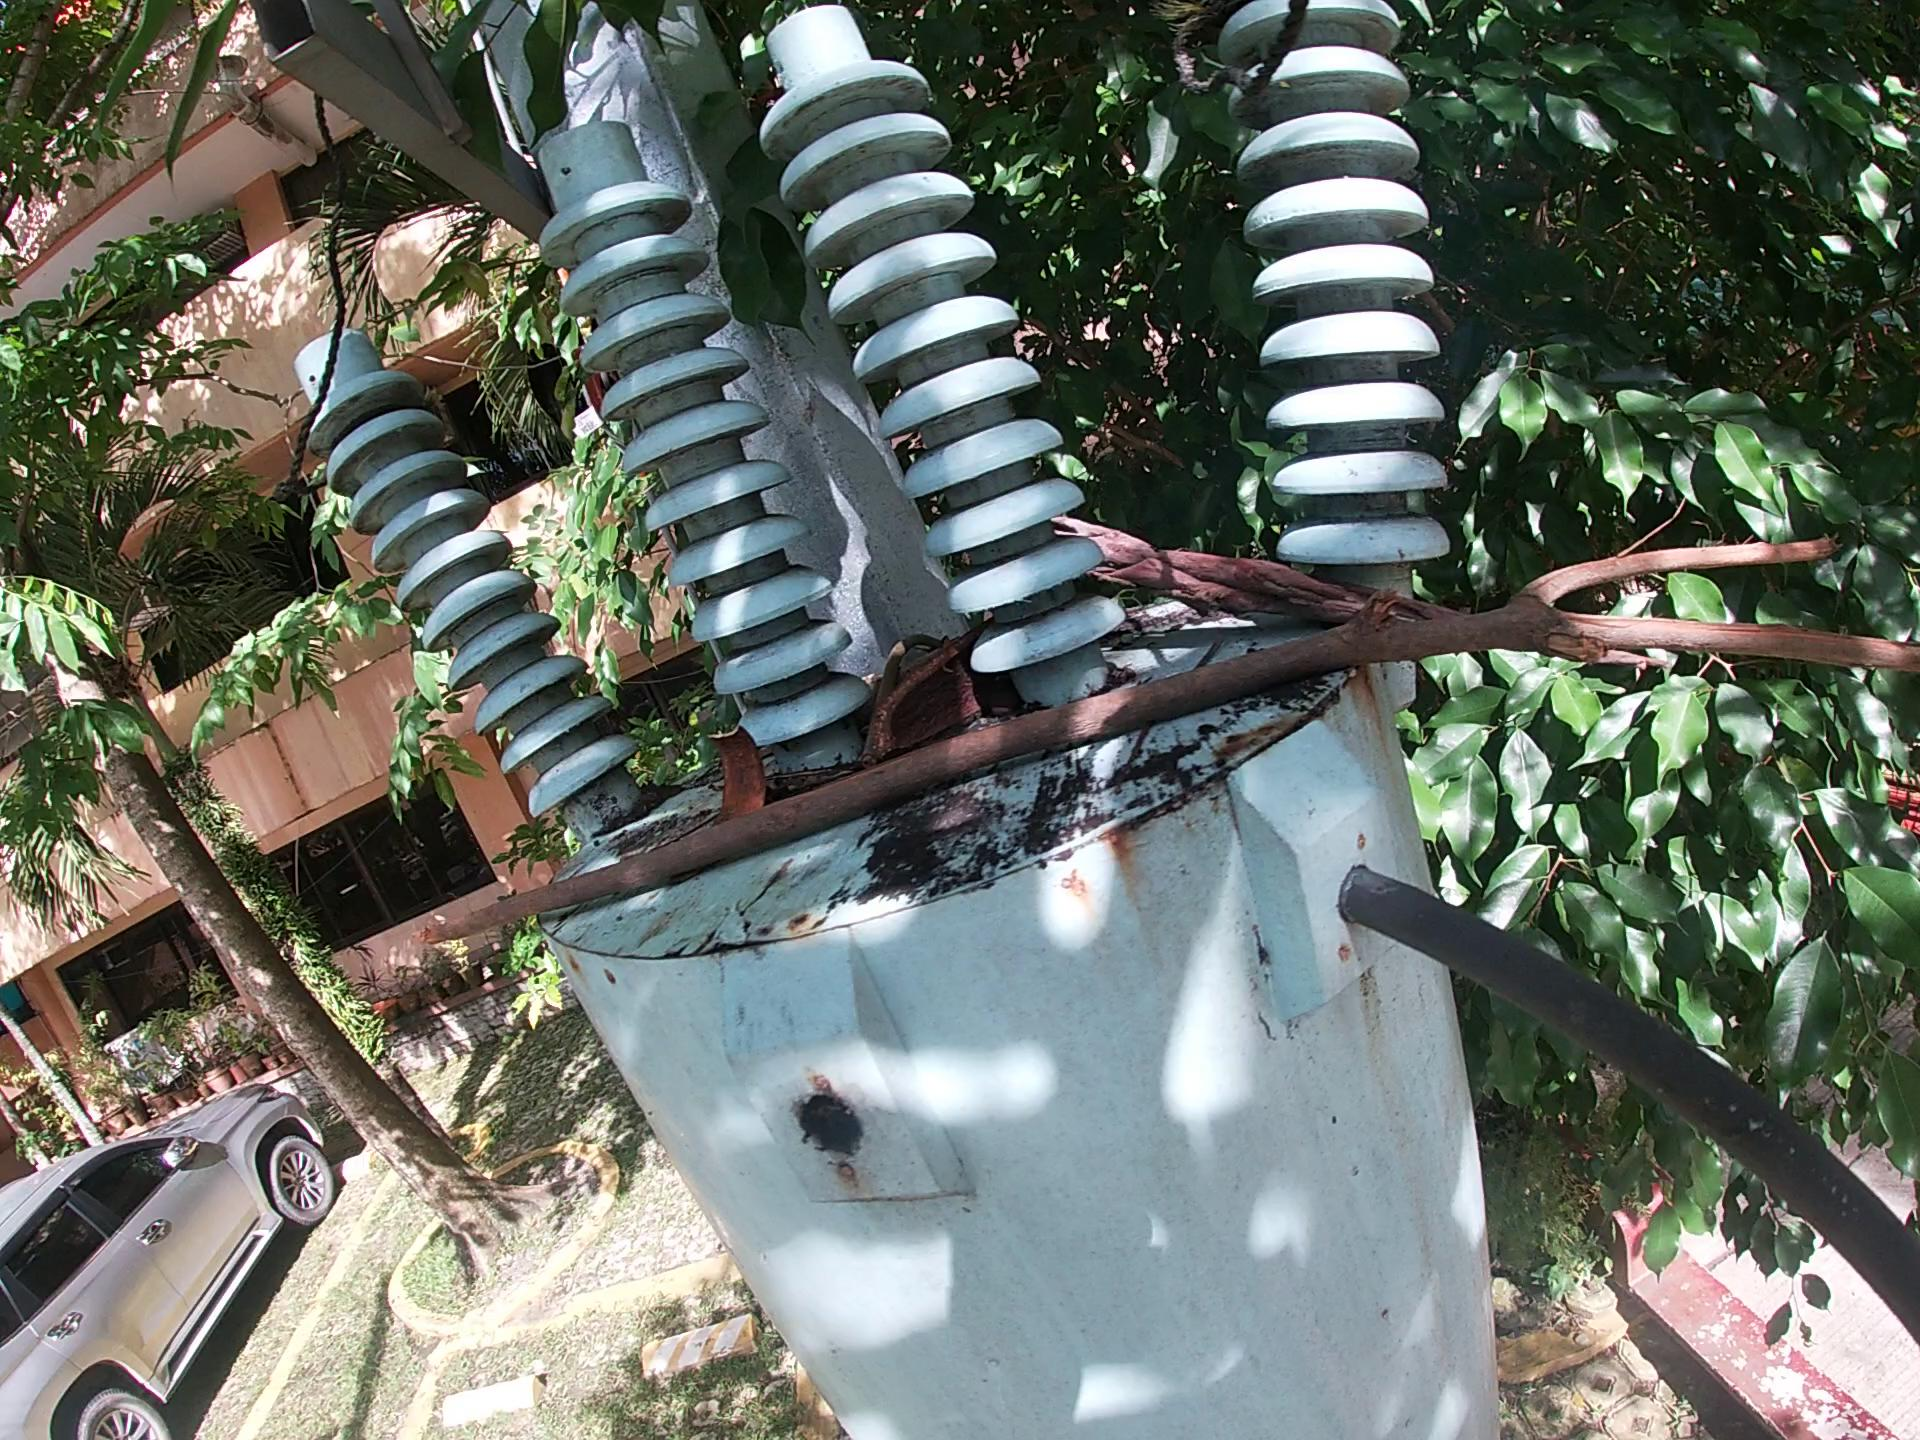mahogany fruit: (853, 616, 1008, 771), (700, 718, 777, 827)
tree branch: (408, 528, 1920, 957), (1046, 519, 1669, 682)
